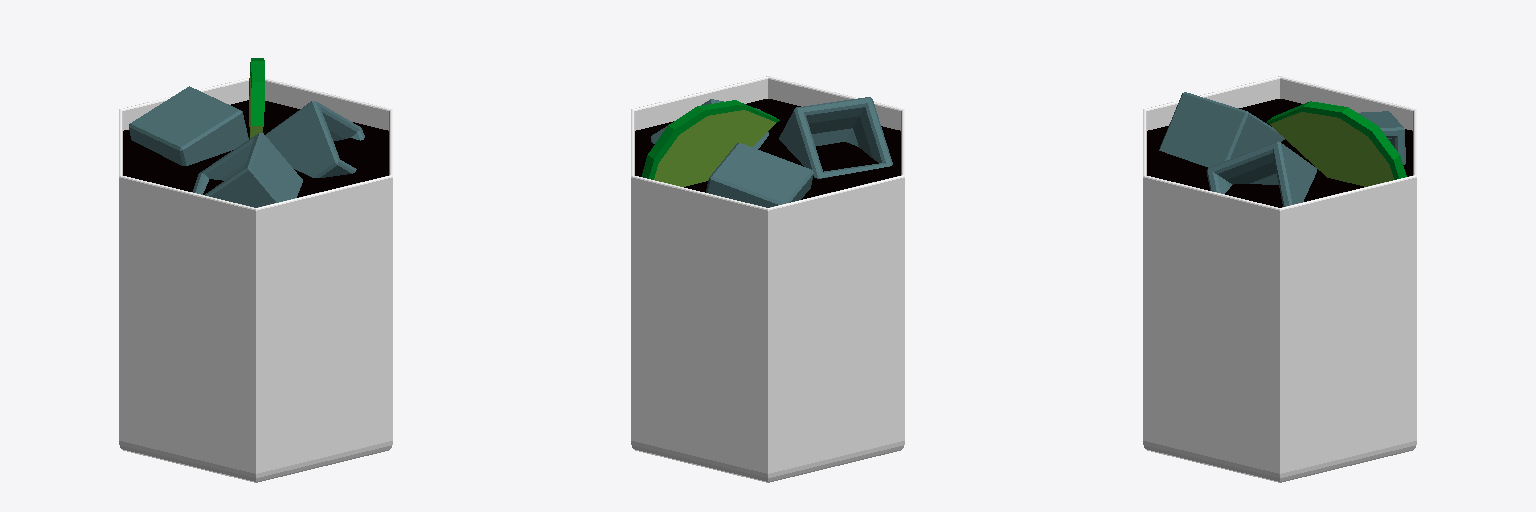
File: normal.obj
The picture shows the model from 3 angles: view 1: azimuth 30°, elevation 25°; view 2: azimuth 150°, elevation 25°; view 3: azimuth 270°, elevation 25°; orthographic projection.
Visible parts, largest first — view 1: Normal; view 2: Normal; view 3: Normal.
Part boxes in pixels (x1,y1,x2,y2): Normal: (119,58,392,482); Normal: (631,76,904,482); Normal: (1143,76,1416,482).
Bounding box in the file's own units: 0.4 × 0.4544 × 0.3464.